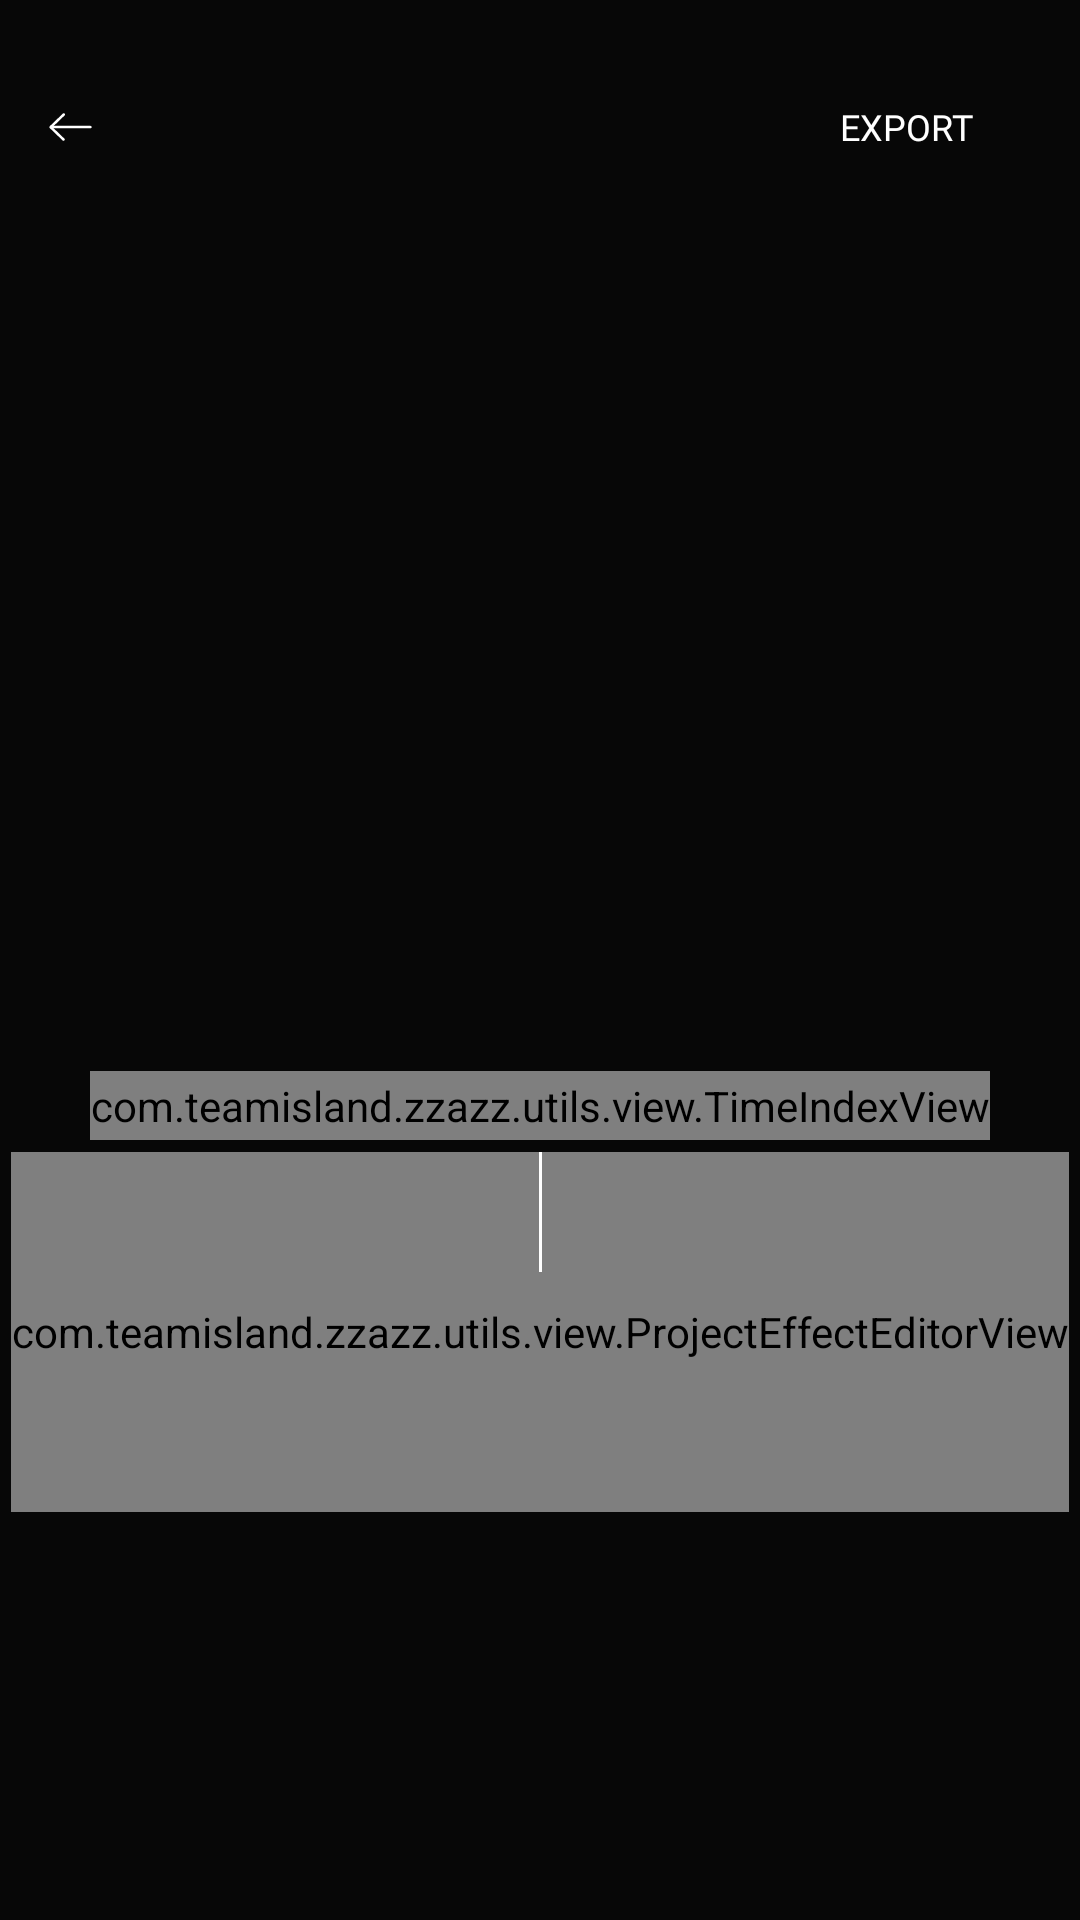

Icon bounding boxes for this 1080px x 1920px phone screenshot, format (x1, y1, x2, y2):
Go back: (49, 113, 92, 141)
